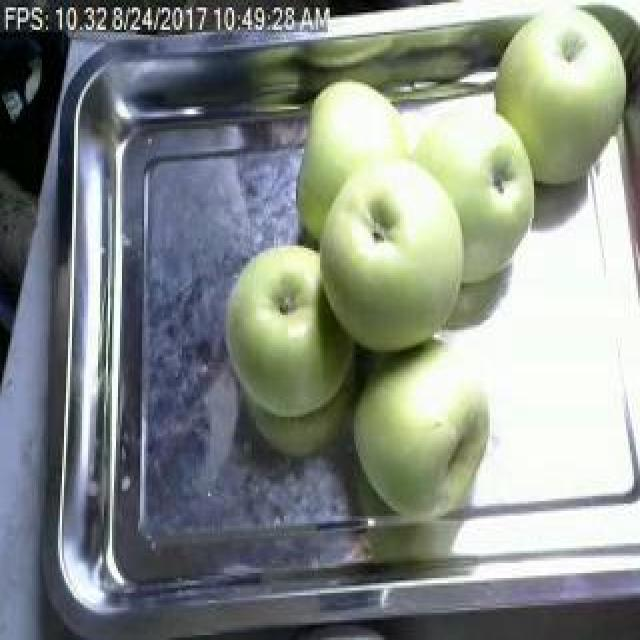Rotten Apple: (402, 84, 574, 296), (356, 335, 524, 518), (204, 222, 354, 416), (316, 171, 476, 340), (474, 9, 640, 158)
